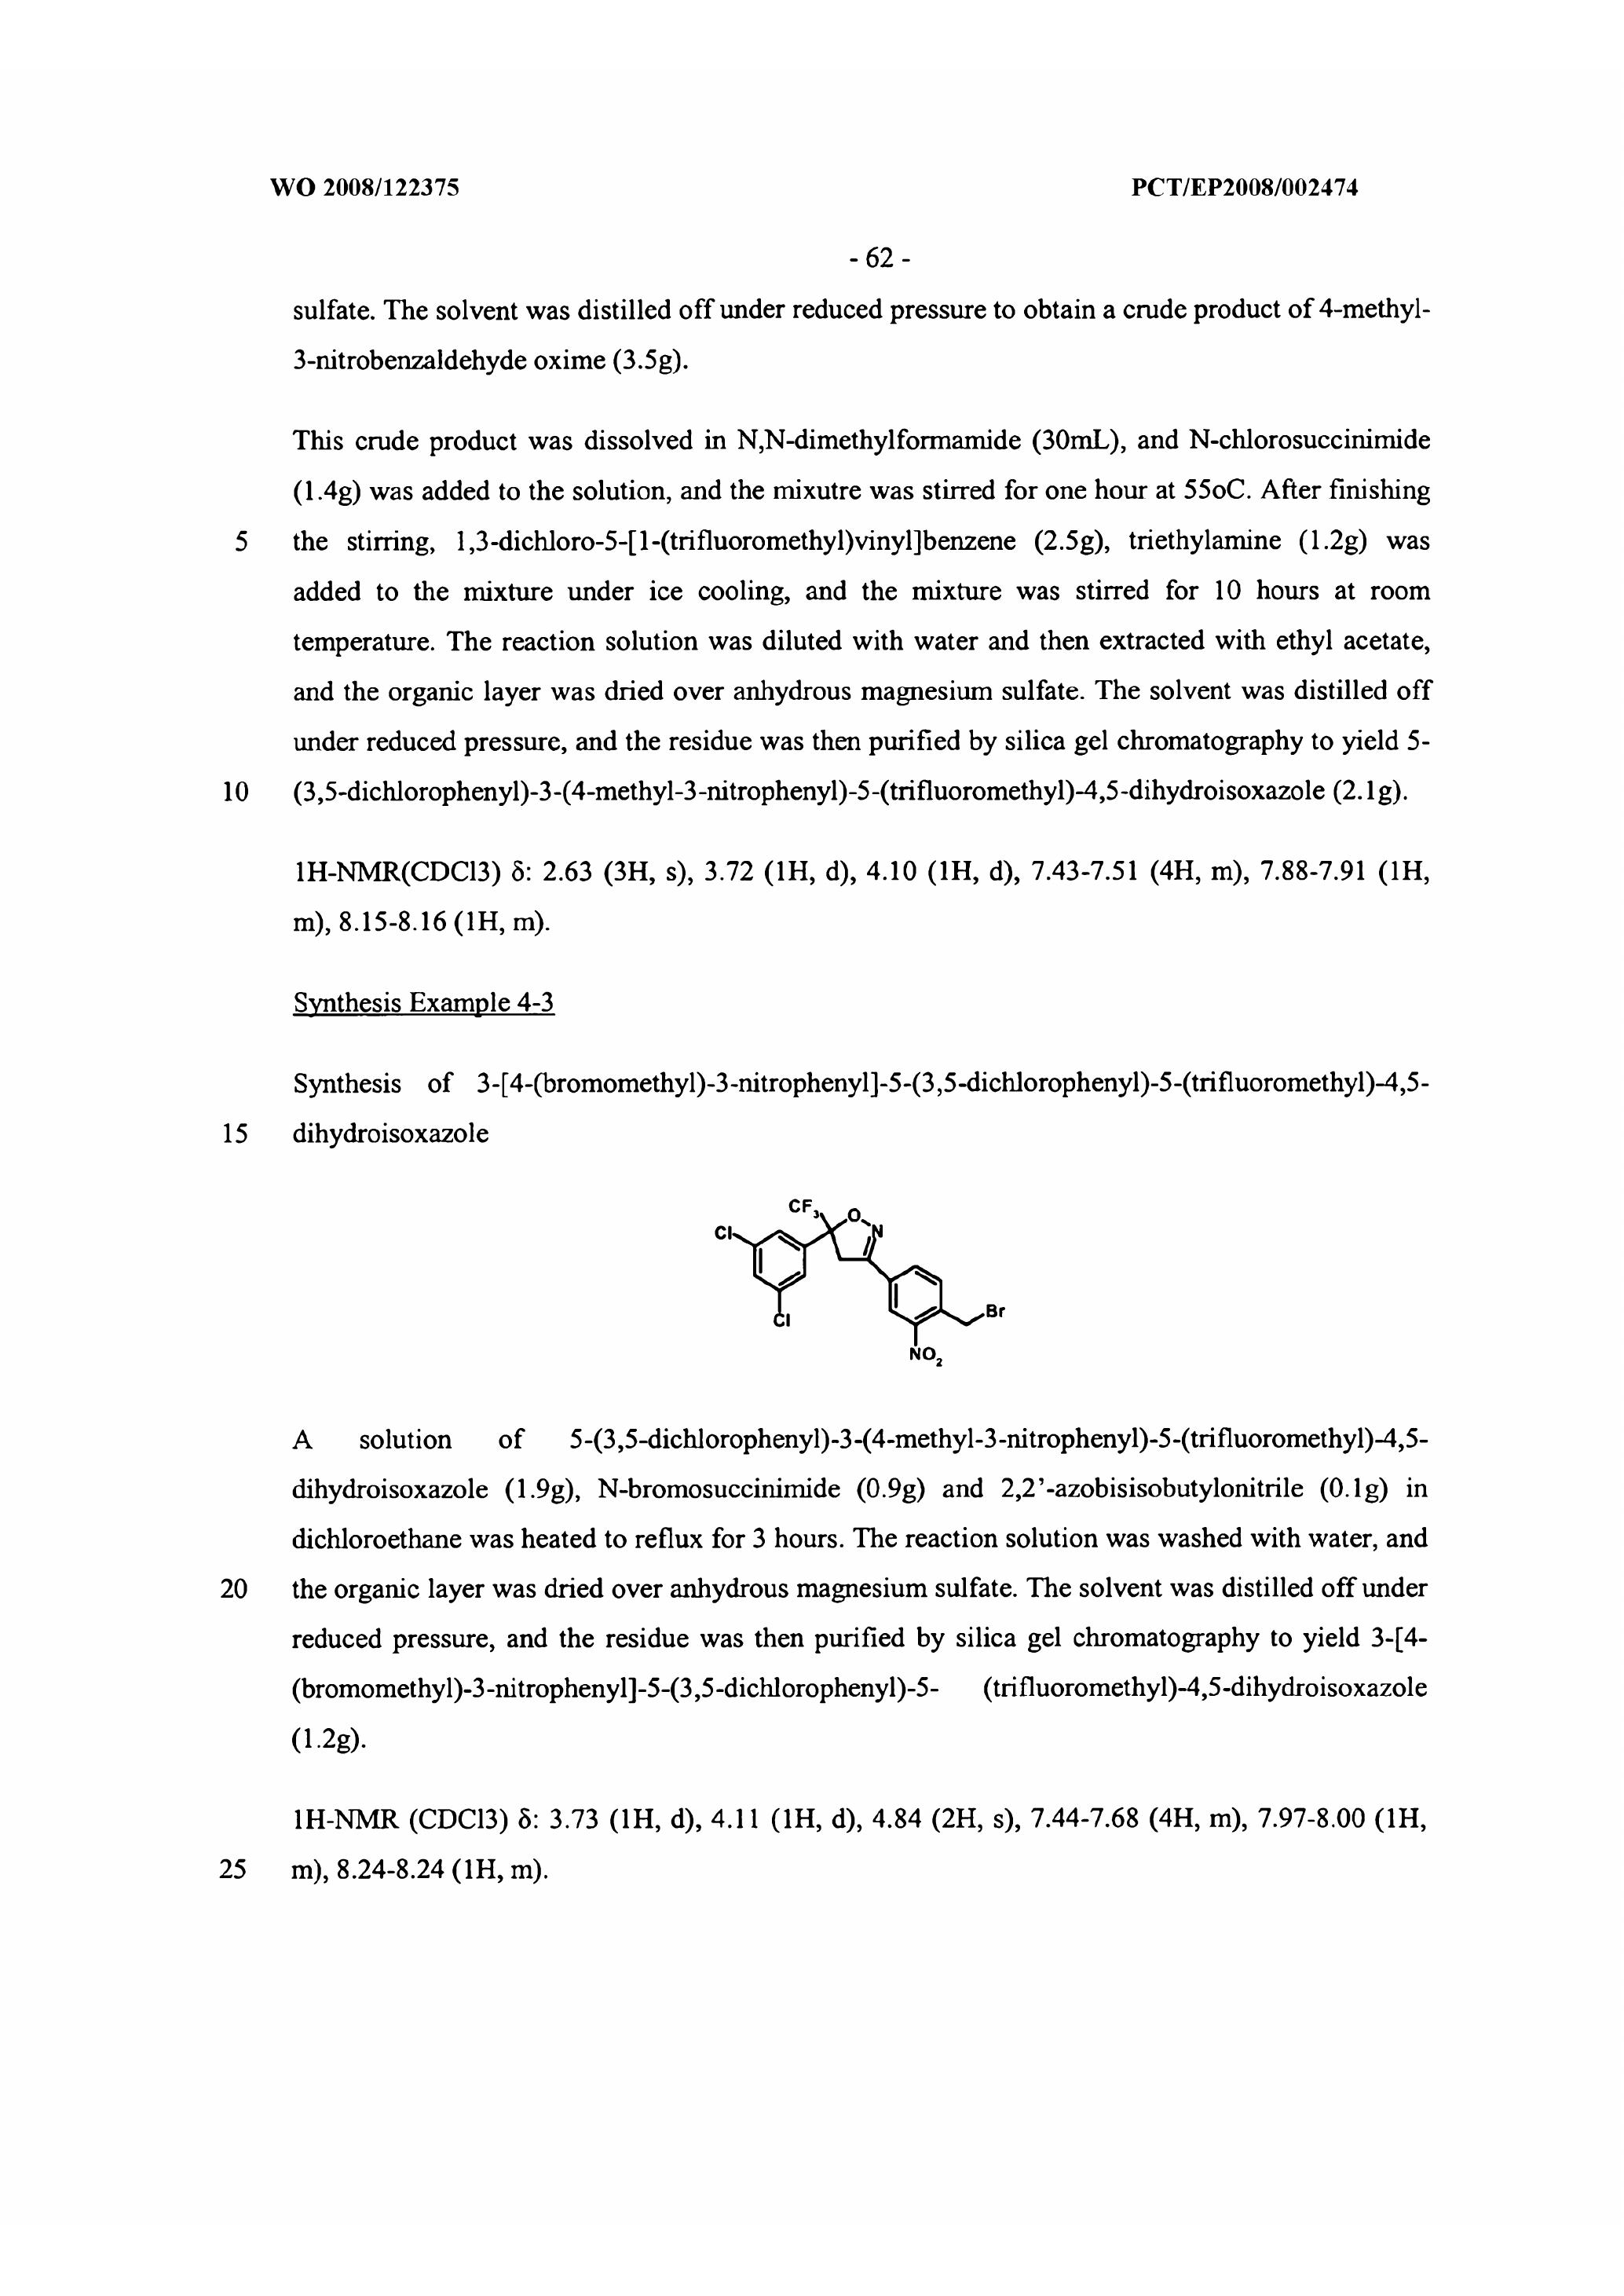relevant-structures: (642, 1164, 1060, 1387)
